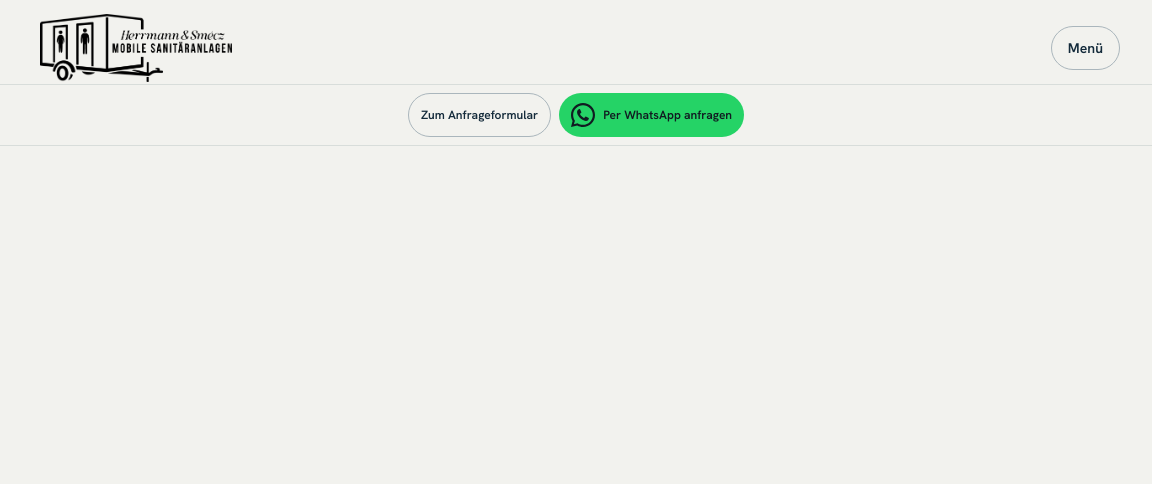
Test: App-Shell › schließt das mobile Menü mit Escape und gibt den Fokus zurück
Click the button "Menü" at (1085, 48), box [1051, 26, 1120, 70]
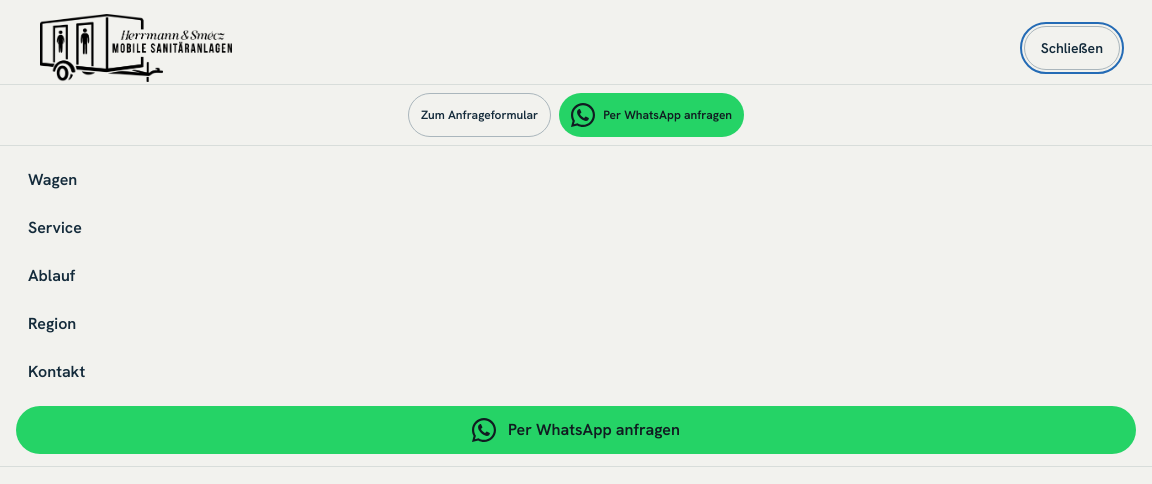
Expected: the button named "Menü" is expanded, [1024, 26, 1120, 70]
Press Escape
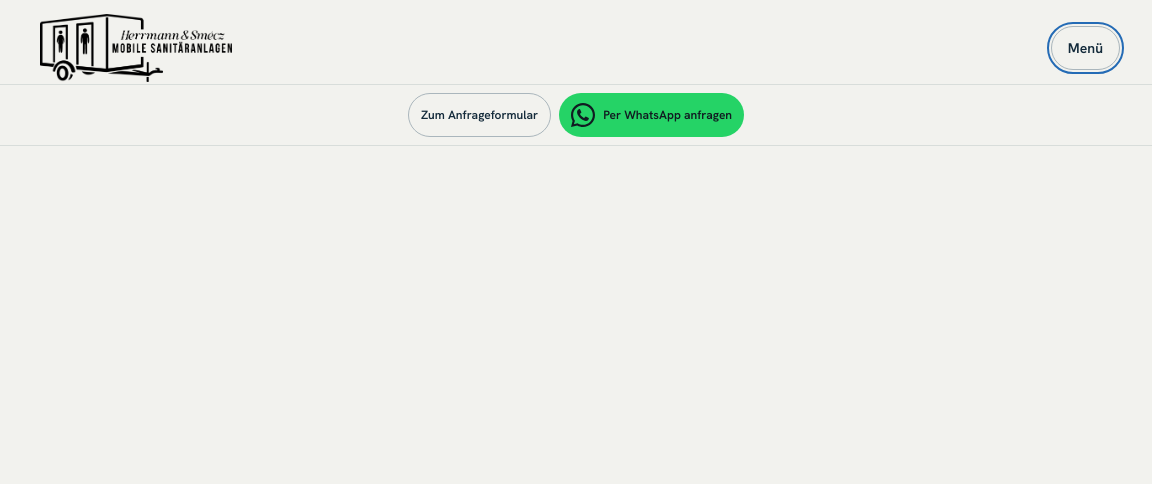
Expected: the button "Menü" is collapsed, [1051, 26, 1120, 70]
